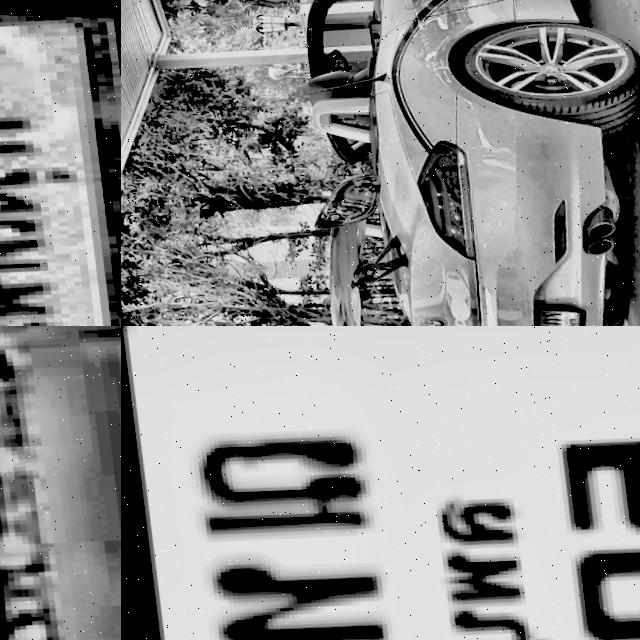license-plate: (121, 326, 640, 640), (0, 0, 121, 326), (0, 326, 112, 640), (515, 296, 592, 326)
